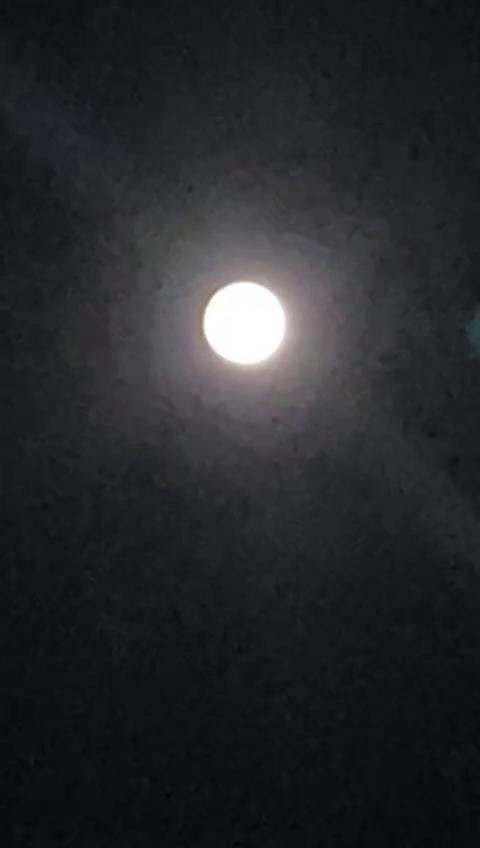moon: (157, 282, 260, 382)
